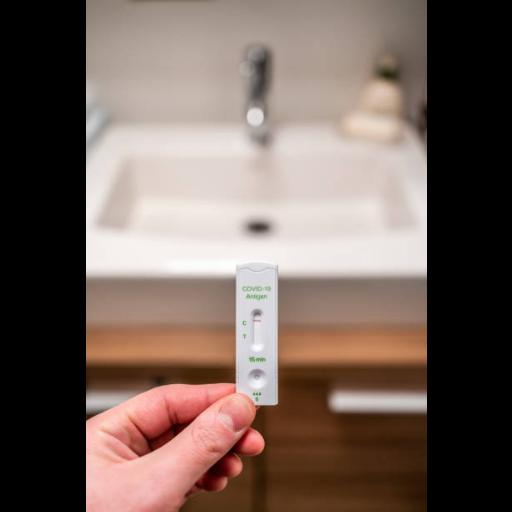Neg: (236, 263, 276, 405)
